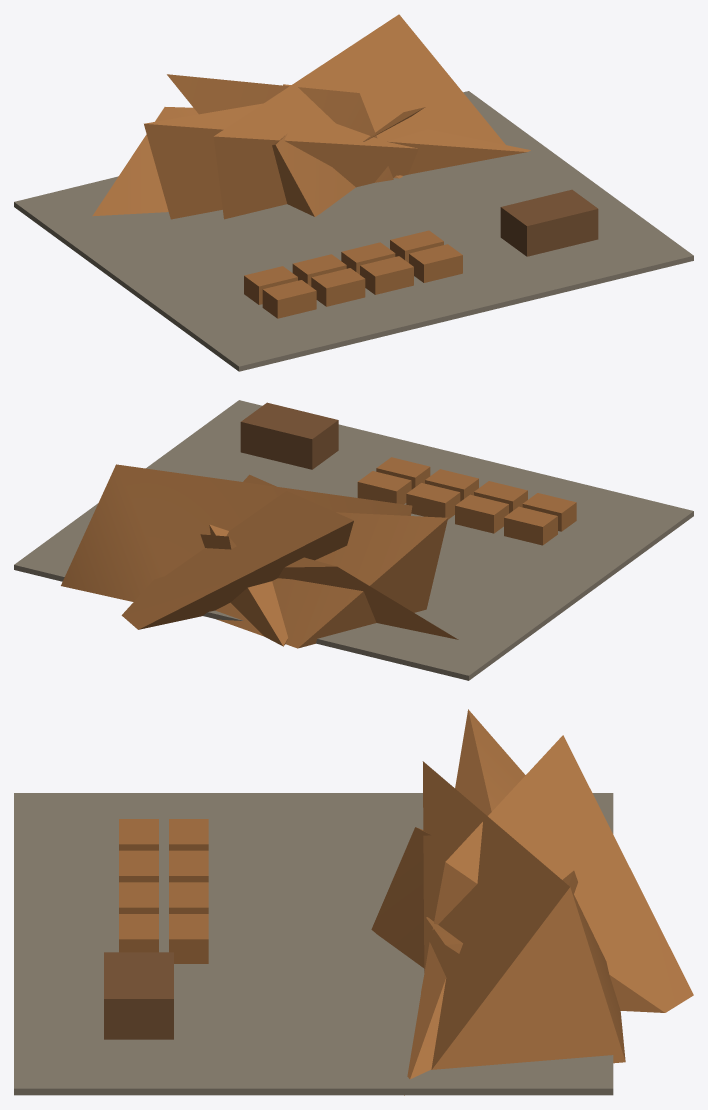
File: quarry.glb
3 renders of one model, top to bottom at view 1: azimuth 30°, elevation 25°; view 2: azimuth 150°, elevation 25°; view 3: azimuth 270°, elevation 25°, orthographic. The views are drawn at different scales.
Visible parts, largest first — view 1: Quarry; view 2: Quarry; view 3: Quarry.
Boxes of the visible parts, x1,y1,x2,y2 form: Quarry: (14,14,693,371); Quarry: (14,400,693,680); Quarry: (14,709,693,1095).
Size of the model in its own units: 14.01 by 3.38 by 13.61.
